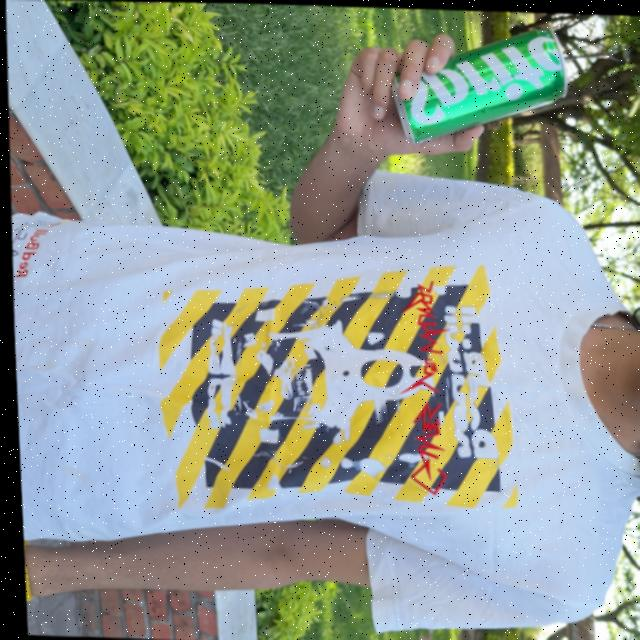Sprite: (391, 18, 566, 141)
